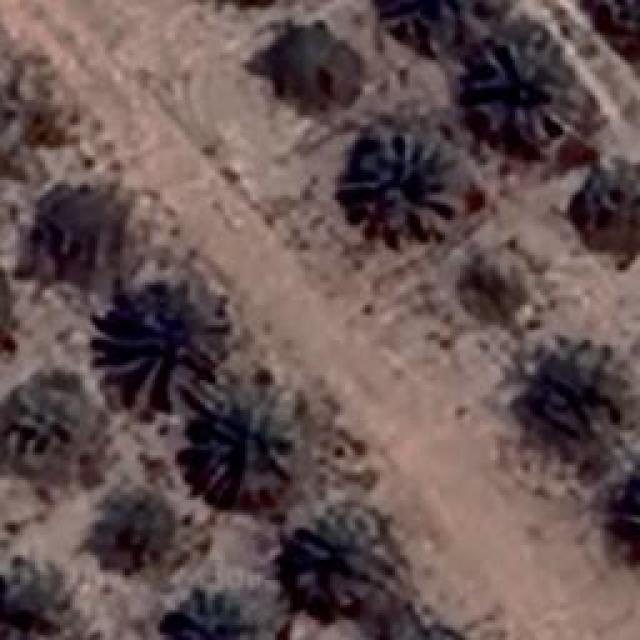PalmTree: (115, 128, 582, 405), (62, 93, 609, 208), (90, 286, 220, 409), (338, 127, 470, 240), (185, 378, 300, 500), (468, 35, 580, 140), (290, 510, 390, 608), (0, 374, 92, 477), (26, 182, 114, 266), (378, 0, 508, 47), (169, 590, 269, 640), (102, 502, 168, 562), (0, 570, 55, 640), (594, 0, 640, 56), (615, 468, 640, 568), (622, 469, 640, 566), (628, 471, 640, 566)
